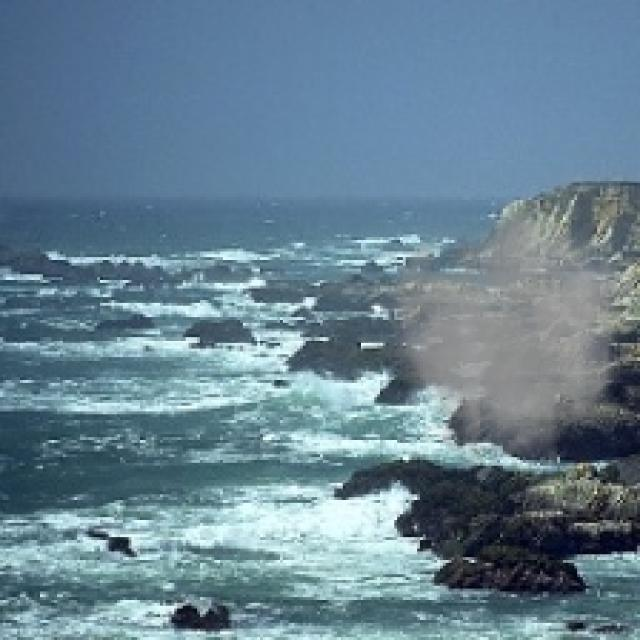Smoke: (374, 202, 634, 474)
